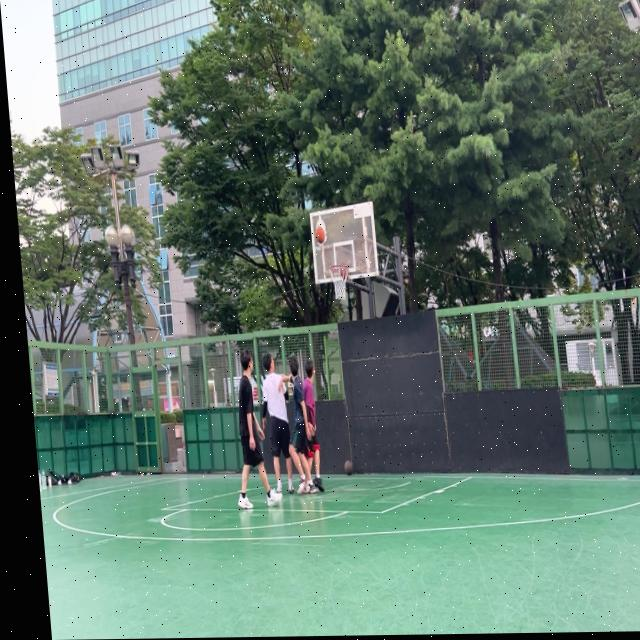basketball: (315, 226, 326, 244), (344, 460, 354, 476)
hoop: (328, 265, 351, 301)
